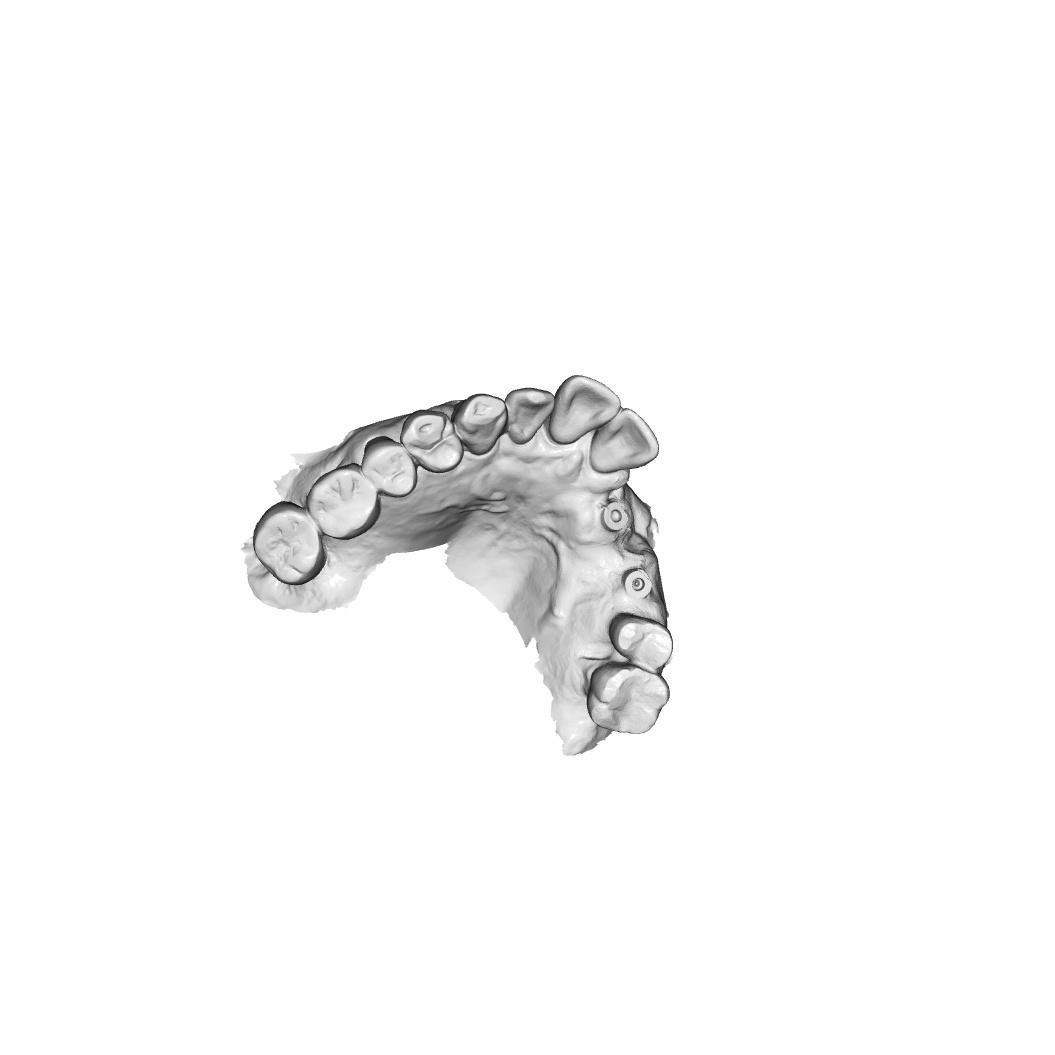canine: (452, 392, 508, 456)
implant: (622, 568, 654, 601), (600, 500, 631, 533)
incisor: (550, 374, 622, 445), (589, 407, 660, 474), (504, 386, 556, 447)
molar: (252, 500, 327, 587), (586, 661, 672, 736), (306, 462, 382, 542)
premolar: (399, 408, 465, 474), (607, 611, 674, 674), (361, 435, 419, 499)
